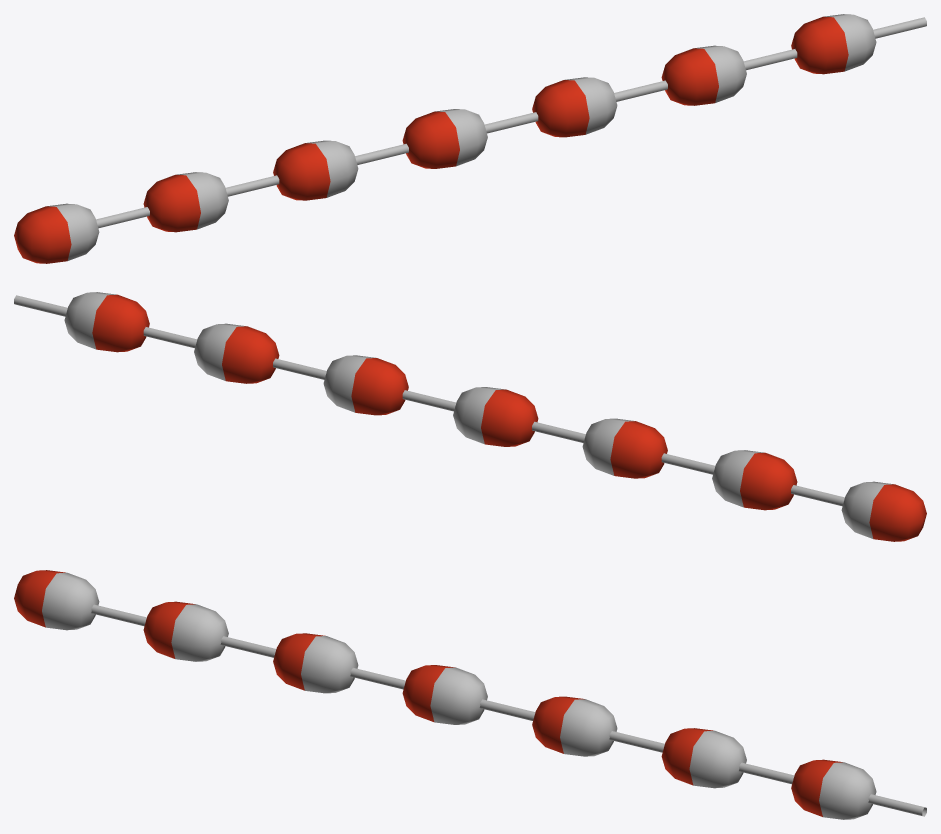
Rendered from block_float.fbx.
3 renders of one model, top to bottom at view 1: azimuth 30°, elevation 25°; view 2: azimuth 150°, elevation 25°; view 3: azimuth 330°, elevation 25°, orthographic.
Visible parts, largest first — view 1: Cylinder; view 2: Cylinder; view 3: Cylinder.
Part boxes in pixels (x1,y1,x2,y2): Cylinder: [14, 14, 926, 263]; Cylinder: [14, 292, 926, 541]; Cylinder: [14, 570, 926, 819].
Size of the model in its own units: 1227 by 69.57 by 69.57.
